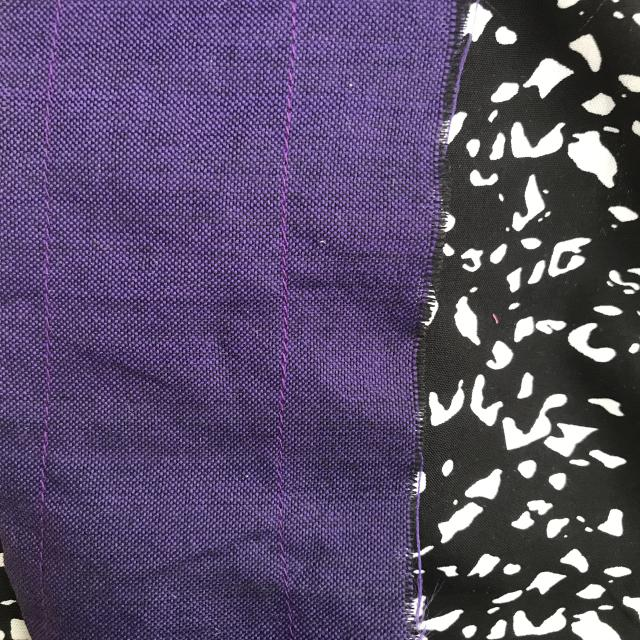good: (28, 189, 66, 341), (36, 398, 58, 542)
